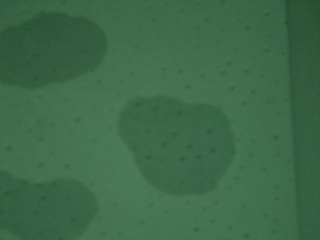Water_detected: (129, 104, 211, 185), (16, 17, 88, 75), (21, 180, 82, 225)
